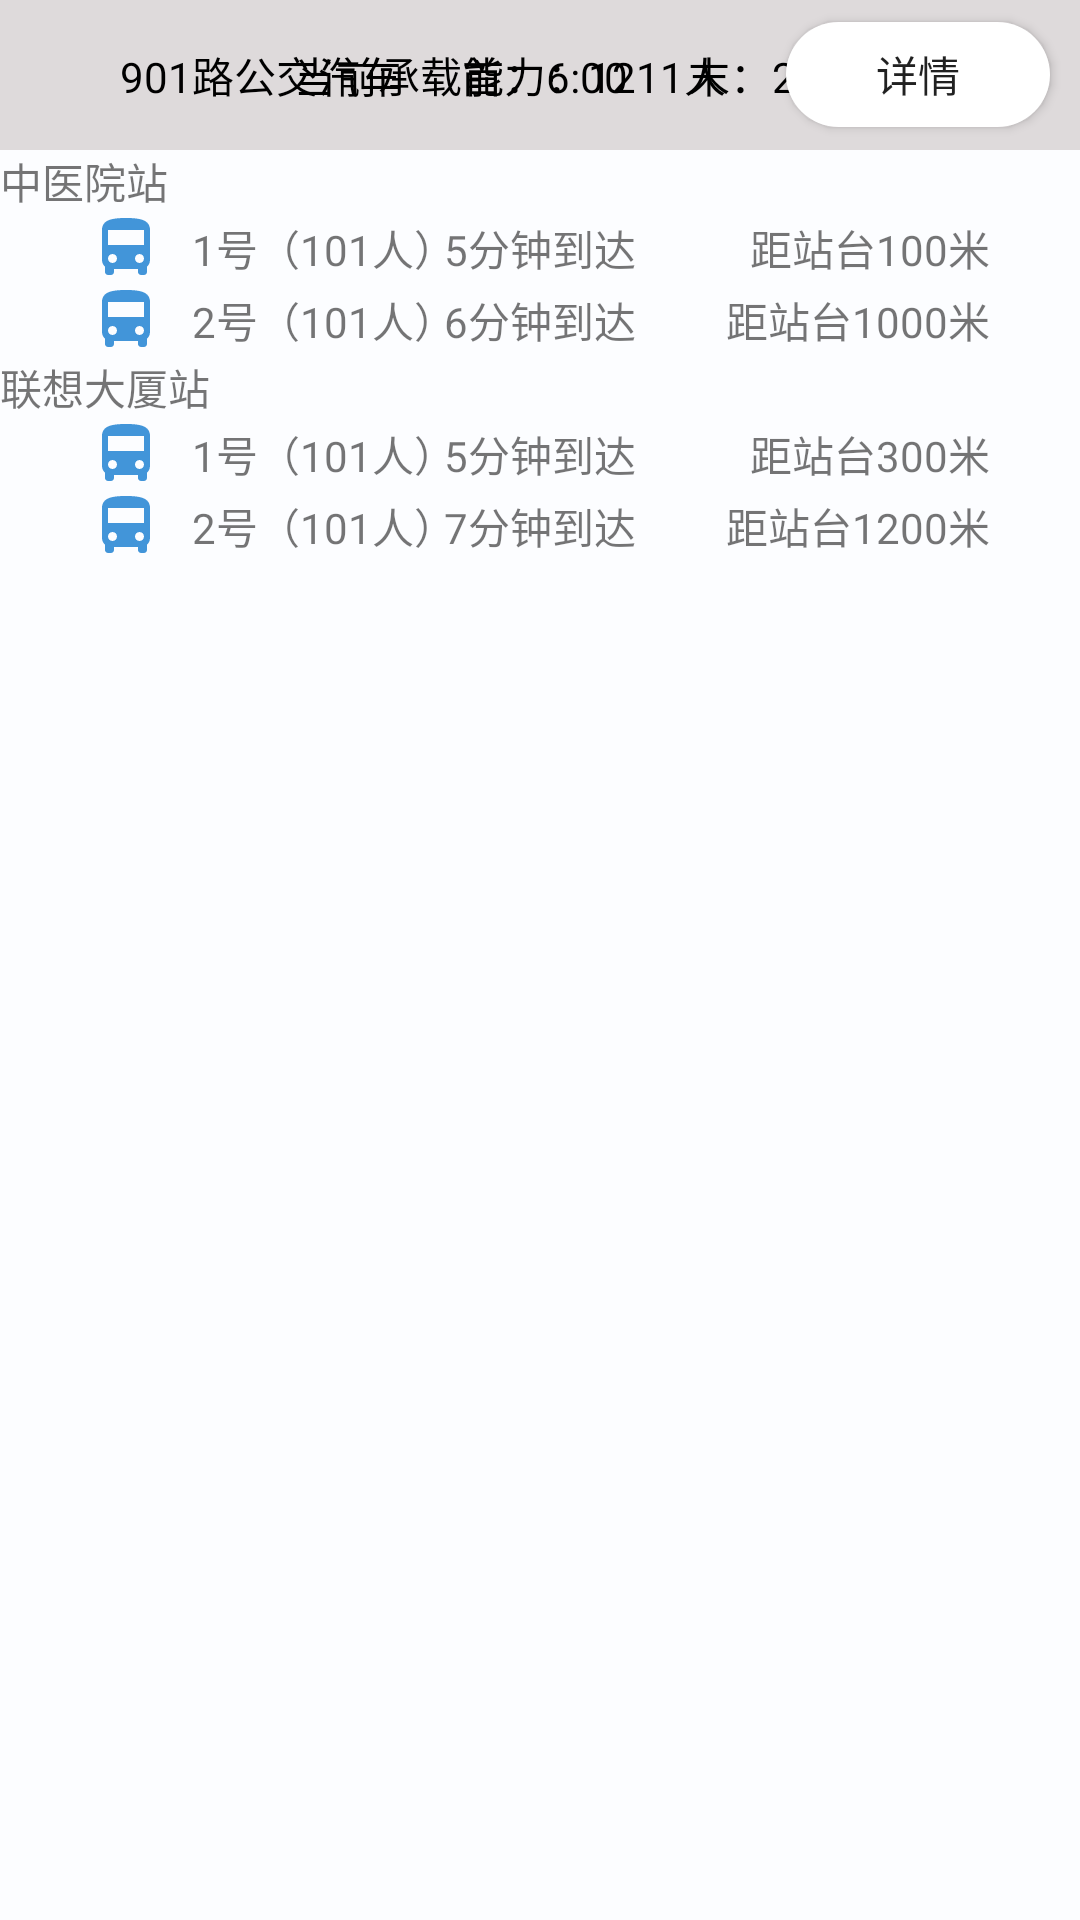

Locate icon controls on the screen. Image size 1080px×1920px, boxes as [left=x1, top=y1, right=x2, bottom=y2].
directions bus: [left=102, top=218, right=150, bottom=275], [left=102, top=290, right=150, bottom=347], [left=102, top=424, right=150, bottom=481], [left=102, top=496, right=150, bottom=553]
